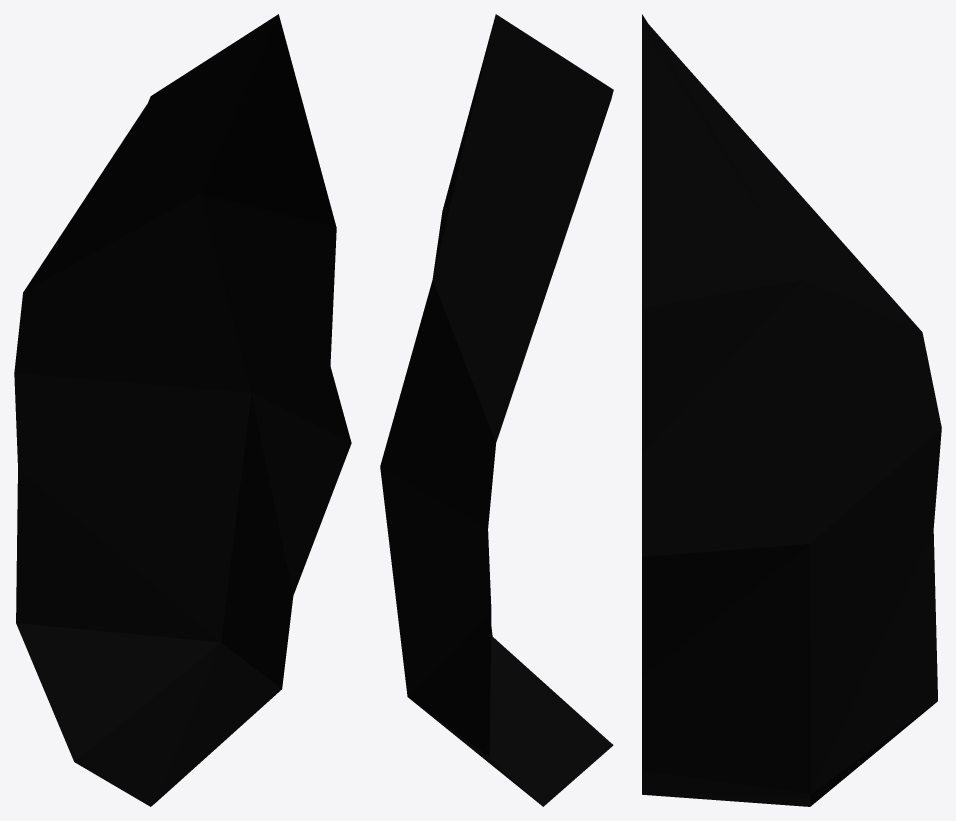
The picture shows the model from 3 angles, left to right: view 1: azimuth 30°, elevation 25°; view 2: azimuth 150°, elevation 25°; view 3: azimuth 270°, elevation 25°; orthographic projection. The views are drawn at different scales.
Size of the model in its own units: 0.9554 by 3.51 by 1.12.
Materials: 1 (1 with a texture image).
